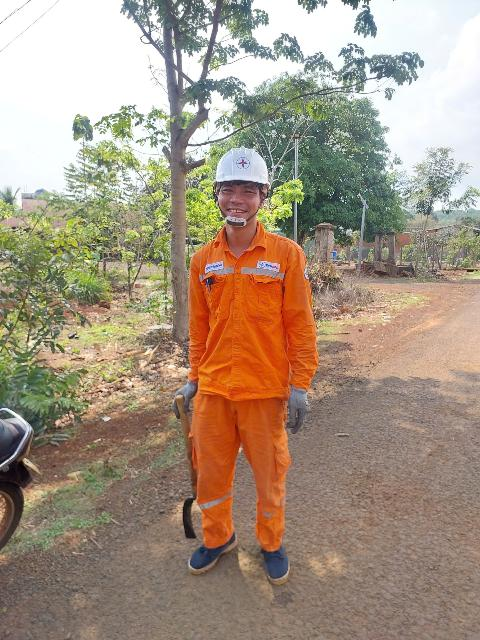gloves: (167, 366, 207, 418), (285, 385, 312, 436)
helmet: (203, 142, 281, 190)
shoes: (178, 523, 242, 576), (253, 531, 293, 586)
